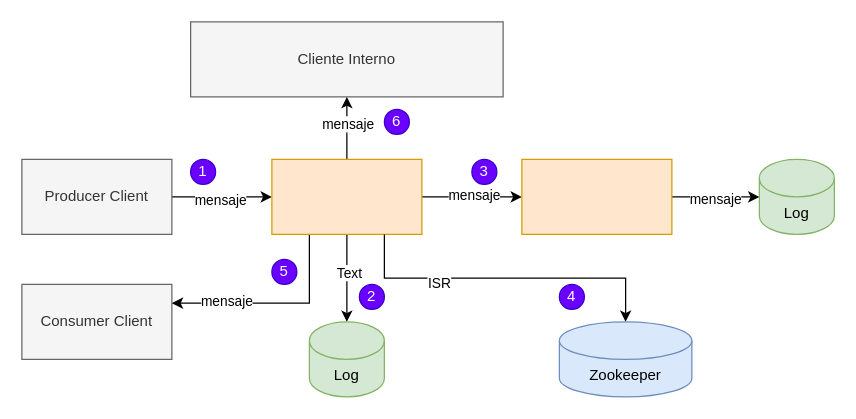
This 856x419 diagram has some shape labels left out. Here are the shapes that lost their labels. From the top down, the centre of each, then its label:
At (x=346, y=196): "Leader Broker".
At (x=596, y=196): "Follower Broker".
